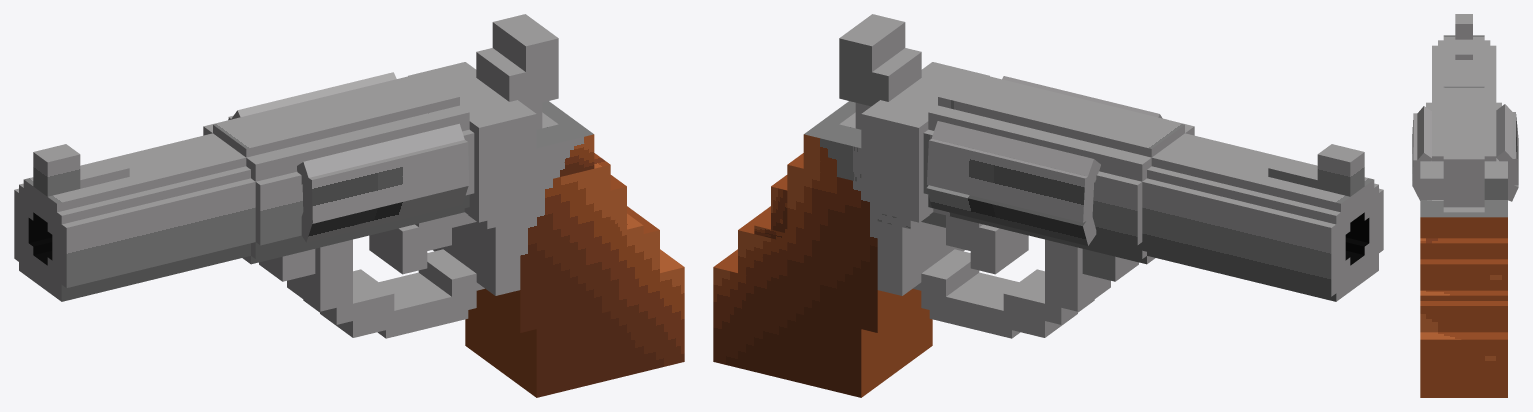
The model's file is revolverfinal.gltf.
3 views of the same model, side by side, from view 1: azimuth 30°, elevation 25°; view 2: azimuth 150°, elevation 25°; view 3: azimuth 270°, elevation 25° (orthographic). The views are drawn at different scales.
Parts seen in each view (by area): view 1: cube (×37); view 2: cube (×37); view 3: cube (×26).
Boxes of the visible parts, x1,y1,x2,y2 form: cube (×37): [19, 14, 684, 397]; cube (×37): [713, 14, 1378, 397]; cube (×26): [1412, 14, 1518, 397].
Bounding box in the file's own units: 4.62 × 2.44 × 1.14.
Materials: 2 (2 with a texture image).
